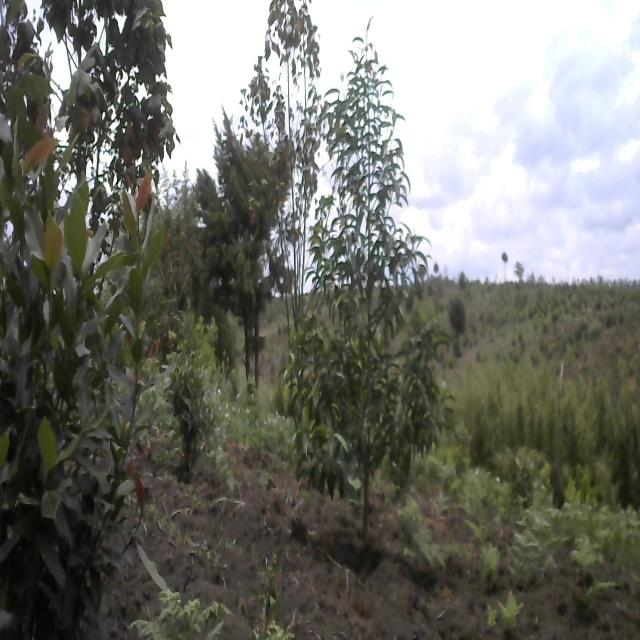Juniperus procesera: (212, 108, 287, 384)
Olea welwitchii: (293, 25, 447, 562)
Syzygium guinesis: (0, 0, 141, 640)
